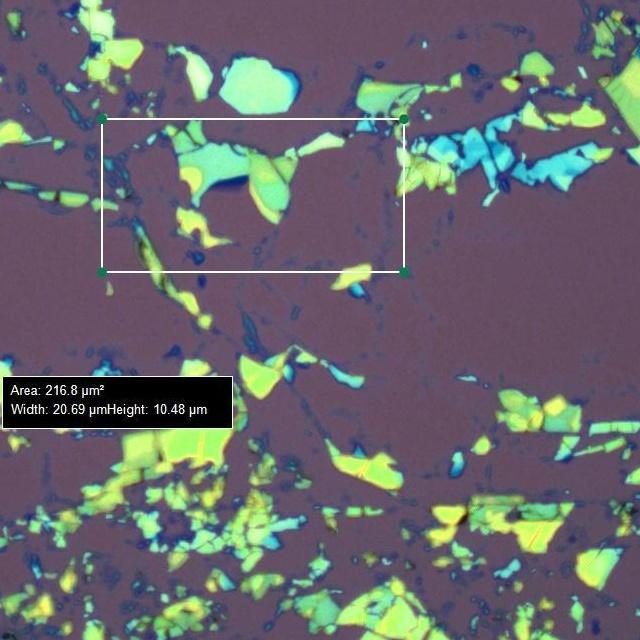monolayer-eWW4: (214, 186, 243, 193)
